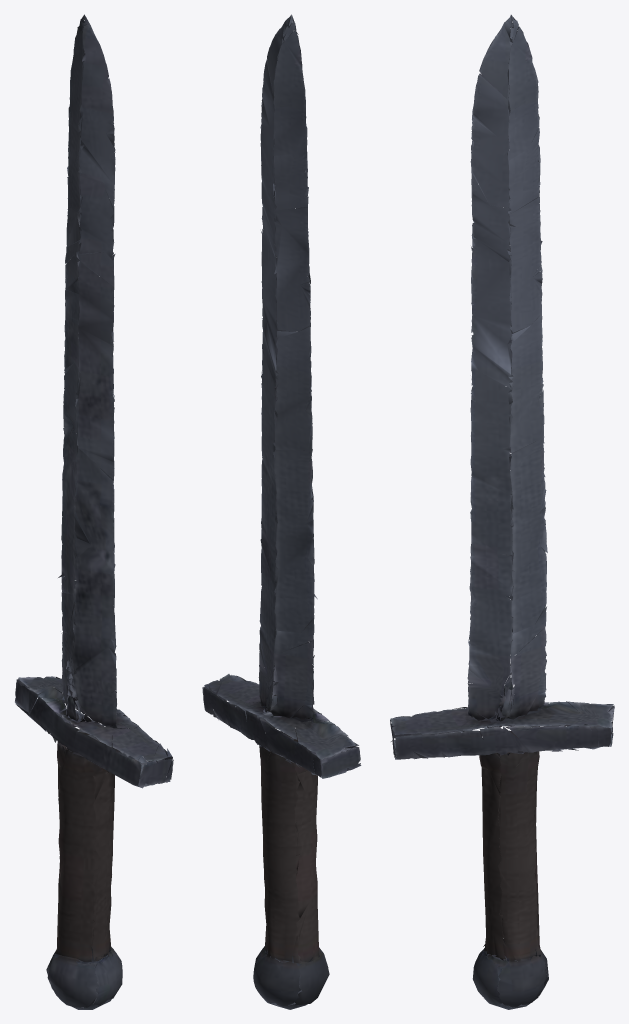
The model's file is greatsword.glb.
3 views of the same model, side by side, from view 1: azimuth 30°, elevation 25°; view 2: azimuth 210°, elevation 25°; view 3: azimuth 270°, elevation 25° (orthographic).
Parts seen in each view (by area): view 1: Greatsword3; view 2: Greatsword3; view 3: Greatsword3.
Boxes of the visible parts, bbox=[...] form: Greatsword3: bbox=[15, 14, 173, 1009]; Greatsword3: bbox=[202, 14, 361, 1009]; Greatsword3: bbox=[390, 14, 614, 1009].
Bounding box in the file's own units: 0.1006 × 1.45 × 0.298.
Materials: 1 (1 with a texture image).
